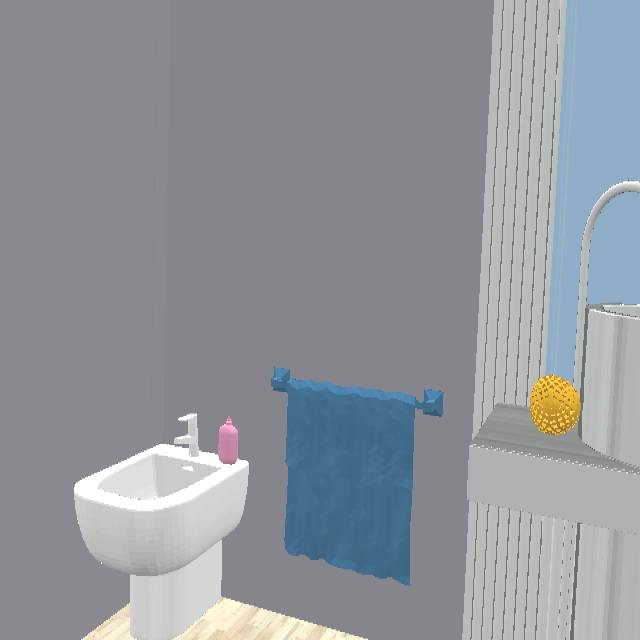shelf: (468, 403, 640, 534)
washbasin: (74, 415, 249, 576), (575, 182, 640, 466)
